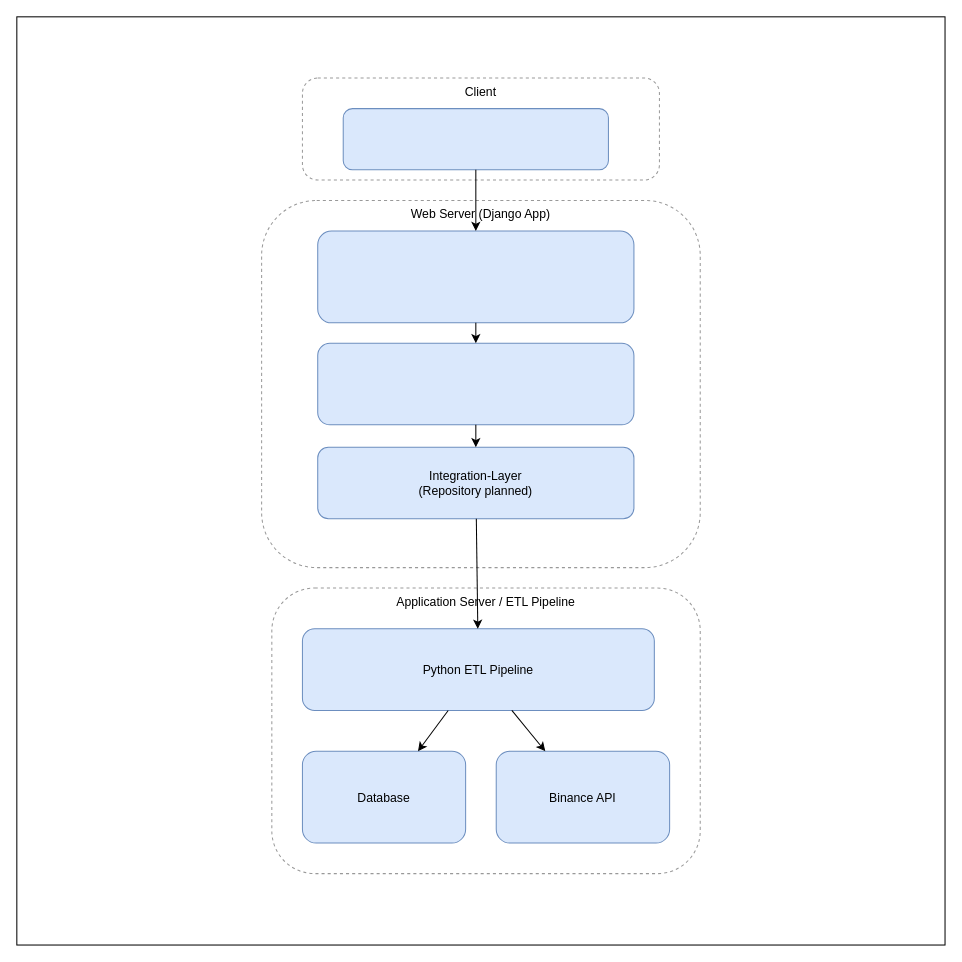
Image size: 962x962. Some labels were removed from this diagram. Here are the shapes that lost their labels. From the top down, the centre of each, then its label:
the point at 475,139: Web Browser
the point at 475,276: Presentation-Layer Views + Templates
the point at 475,383: API-Layer
